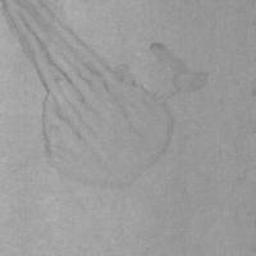Water spot: (0, 0, 211, 195)
